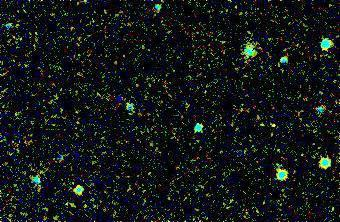star: (259, 111, 289, 141)
